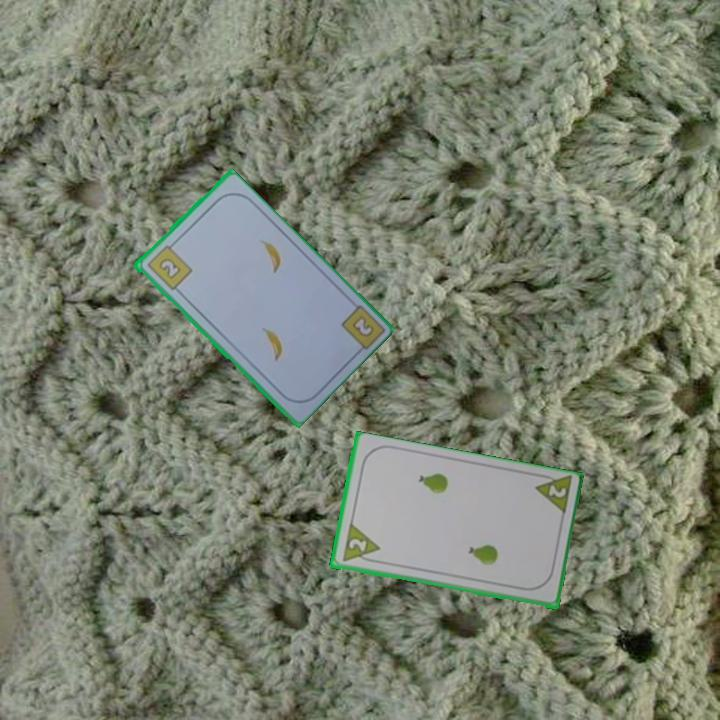2b: (143, 239, 195, 293), (350, 314, 375, 338)
2p: (531, 470, 575, 519), (338, 522, 382, 566)
